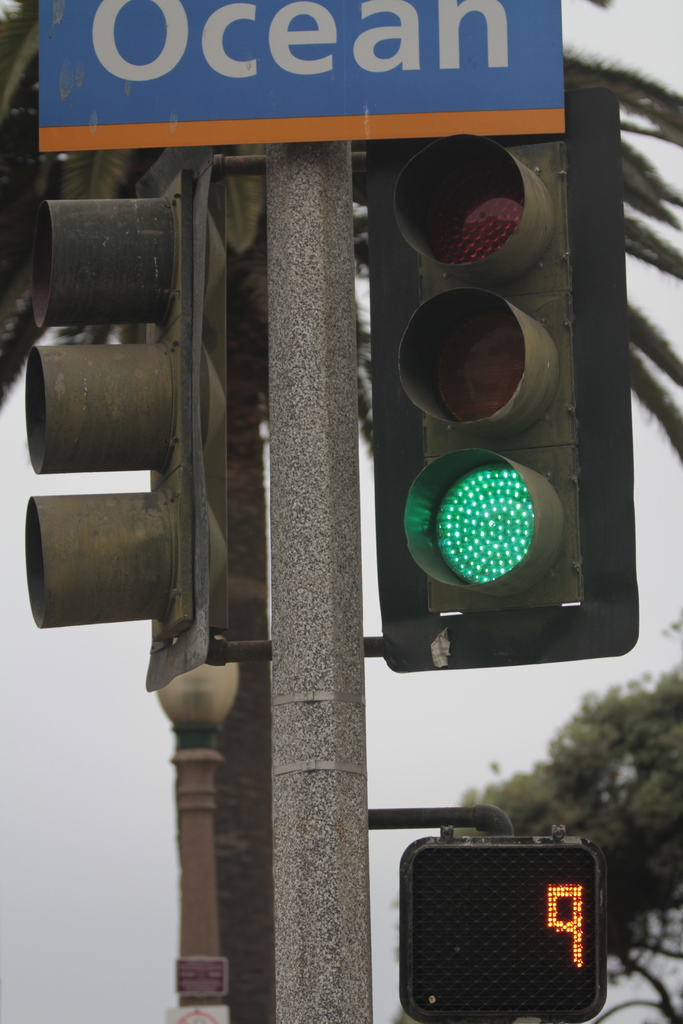green_light: (385, 145, 597, 639)
